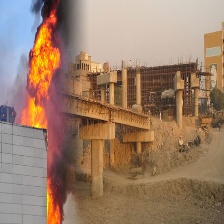fire: (17, 9, 59, 131), (41, 177, 60, 224)
smoke: (42, 1, 81, 202)
